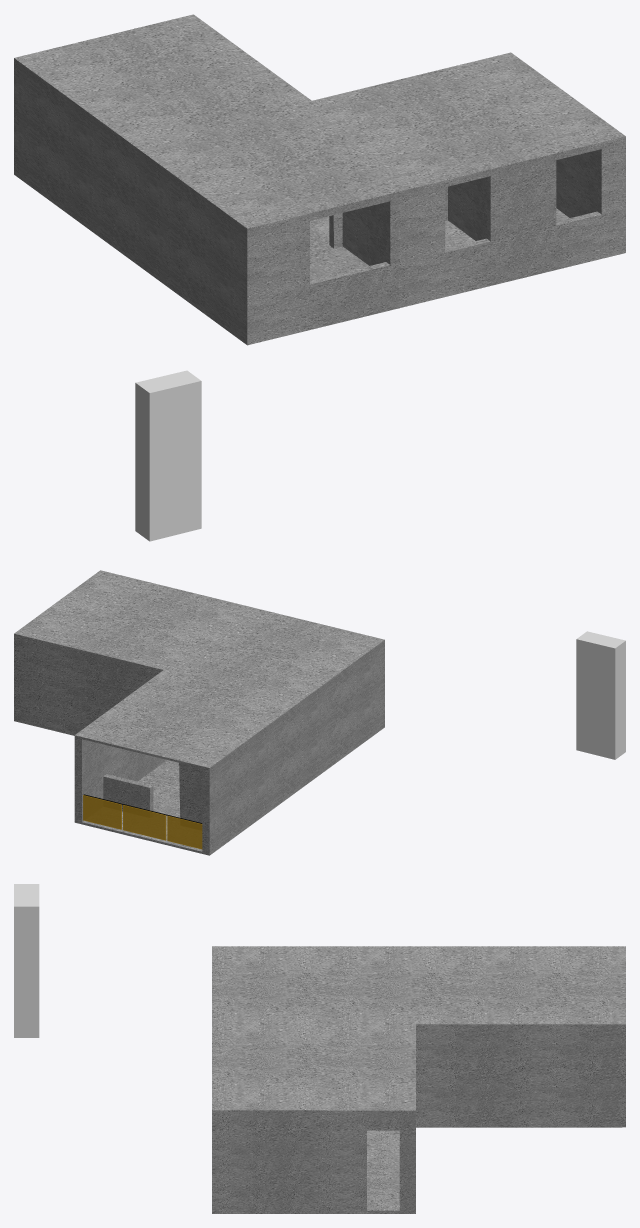
File: flat.dae
3 views of the same model, one above another, from view 1: azimuth 30°, elevation 25°; view 2: azimuth 150°, elevation 25°; view 3: azimuth 270°, elevation 25° (orthographic). The views are drawn at different scales.
Visible parts, largest first — view 1: Cube_001, Cube_003; view 2: Cube_001, Cube_003, Plane_000, Plane_002, Plane_001; view 3: Cube_001, Cube_003.
Boxes of the visible parts, box(x1,y1,x2,y2) form: Cube_001: box(14, 14, 625, 345); Cube_003: box(135, 370, 201, 541); Cube_001: box(14, 570, 384, 855); Cube_003: box(576, 631, 625, 759); Plane_000: box(123, 805, 166, 840); Plane_002: box(83, 795, 121, 829); Plane_001: box(167, 815, 202, 849); Cube_001: box(212, 946, 625, 1213); Cube_003: box(14, 884, 39, 1037).
Bounding box in the file's own units: 18.13 × 18.42 × 5.31.
Materials: 5 (1 with a texture image).
